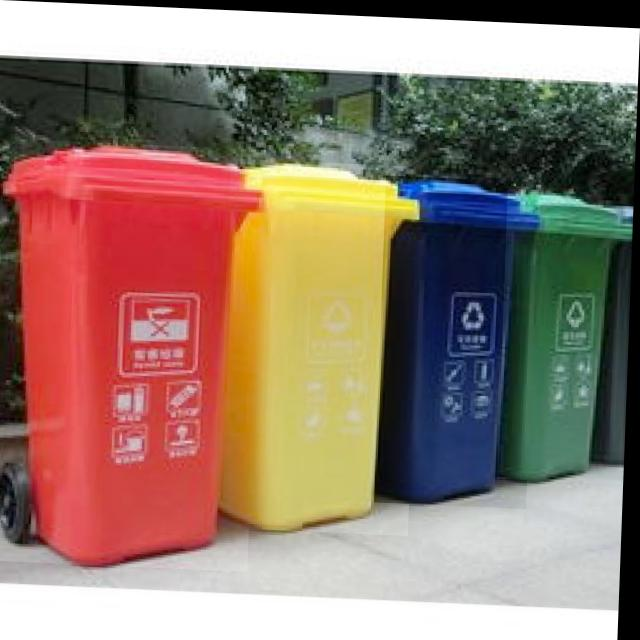garbage_bin: (0, 138, 264, 569), (221, 156, 423, 532), (378, 172, 540, 504), (501, 184, 633, 479)
